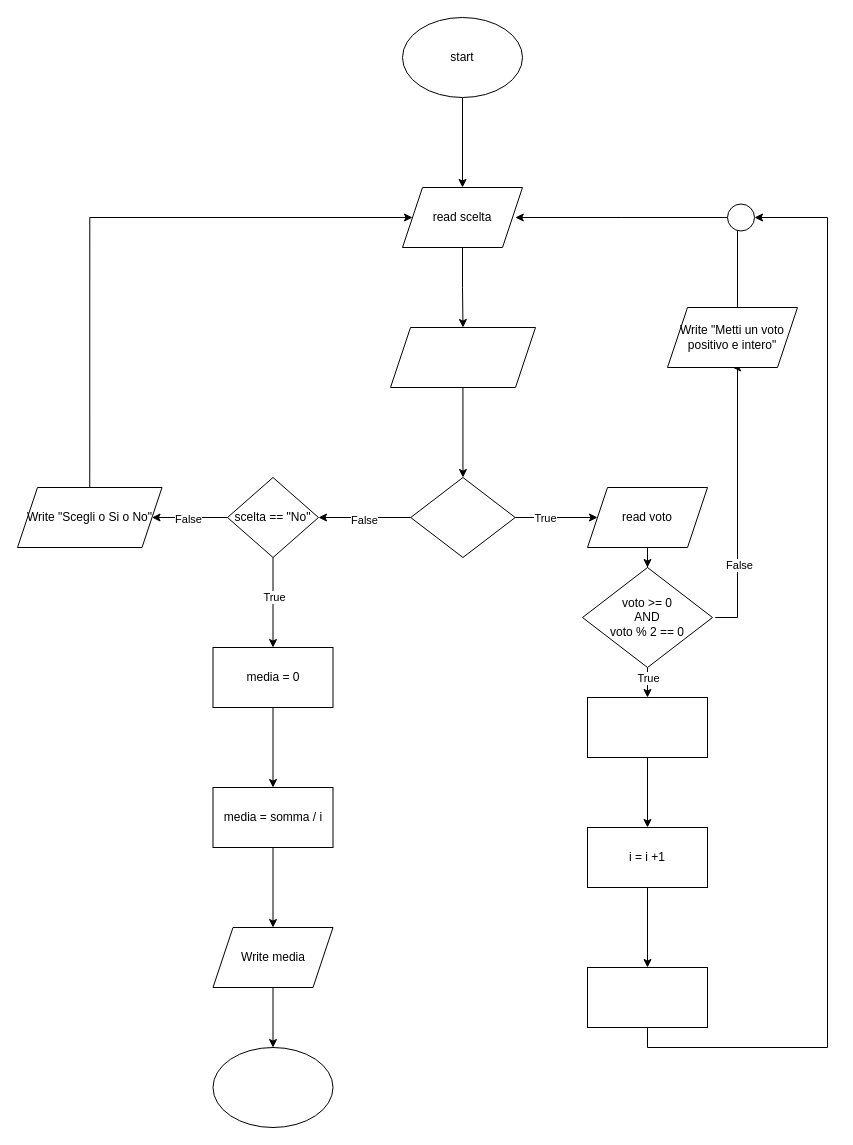
Image size: 853x1145. Some labels were removed from this diagram. The shapes that lost their labels are listed below. From the top down, each one's box as (x1, y1, x2, y2) in pixels, then its label:
(390, 326, 536, 388): Write "vuoi inserire il voto?"
(410, 476, 515, 558): scelta == "Si"
(586, 696, 708, 758): i = 0, somma = 0
(586, 966, 708, 1028): somma = somma + voto
(212, 1046, 333, 1128): end
